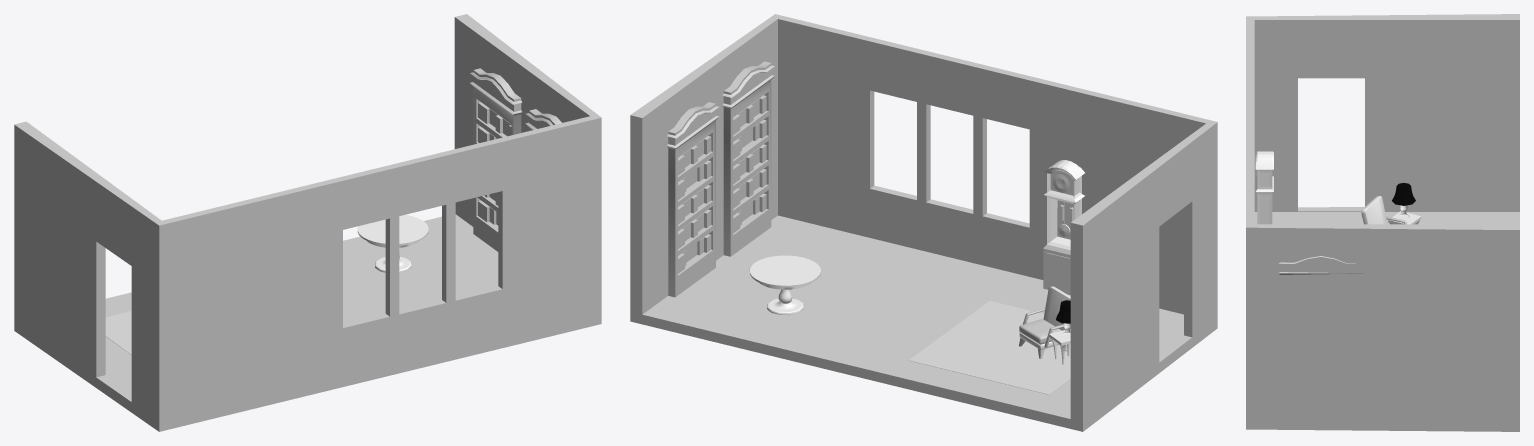
Rendered from guerreScene.gltf.
The picture shows the model from 3 angles, left to right: view 1: azimuth 30°, elevation 25°; view 2: azimuth 150°, elevation 25°; view 3: azimuth 270°, elevation 25°; orthographic projection. The views are drawn at different scales.
Parts seen in each view (by area): view 1: Booléen, armoire, table_remesh, Cube, livre1; view 2: Booléen, armoire (×3), Cube, table_remesh, livre4 (×2), livre3 (×2), livre1 (×2), porte, fauteuil, coussin assise; view 3: Booléen, armoire (×2), fauteuil, Cylindre, table_de_chevet.
Part boxes in pixels (x1,y1,x2,y2): Booléen: (14,14,601,431); armoire: (470,68,522,251); table_remesh: (357,214,428,272); Cube: (105,311,131,354); livre1: (478,102,511,136); Booléen: (630,14,1217,431); armoire (×3): (667,61,1084,297); Cube: (909,301,1070,394); table_remesh: (749,255,820,315); livre4 (×2): (678,169,766,248); livre3 (×2): (678,144,766,224); livre1 (×2): (678,95,766,175); porte: (1046,252,1070,291); fauteuil: (1019,286,1070,349); coussin assise: (1019,319,1061,344); Booléen: (1246,14,1519,431); armoire (×2): (1255,151,1362,274); fauteuil: (1361,196,1387,224); Cylindre: (1392,183,1415,205); table_de_chevet: (1388,211,1421,224).
Size of the model in its own units: 9.65 by 4.2 by 5.16.
Materials: 6 (1 with a texture image).
